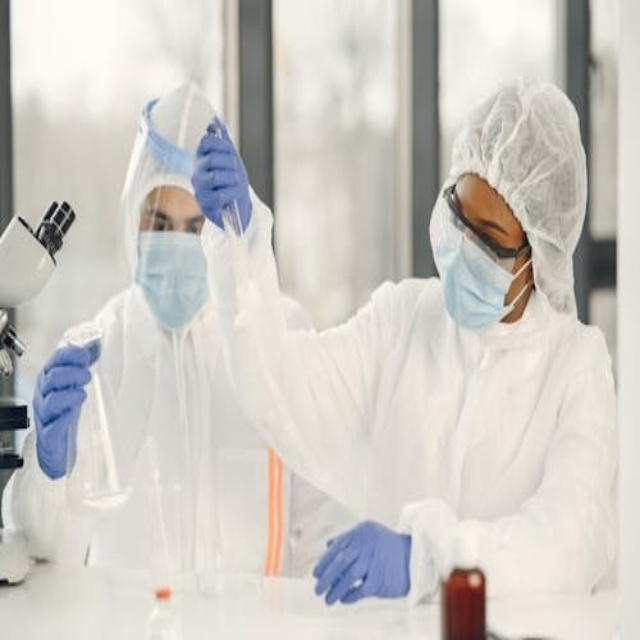Gafas: (440, 179, 534, 275)
Guantes: (26, 331, 106, 502), (312, 507, 421, 615), (189, 111, 256, 234)
Mascara: (435, 194, 527, 330), (135, 231, 210, 331)
Sin_gafas: (141, 206, 206, 236)
